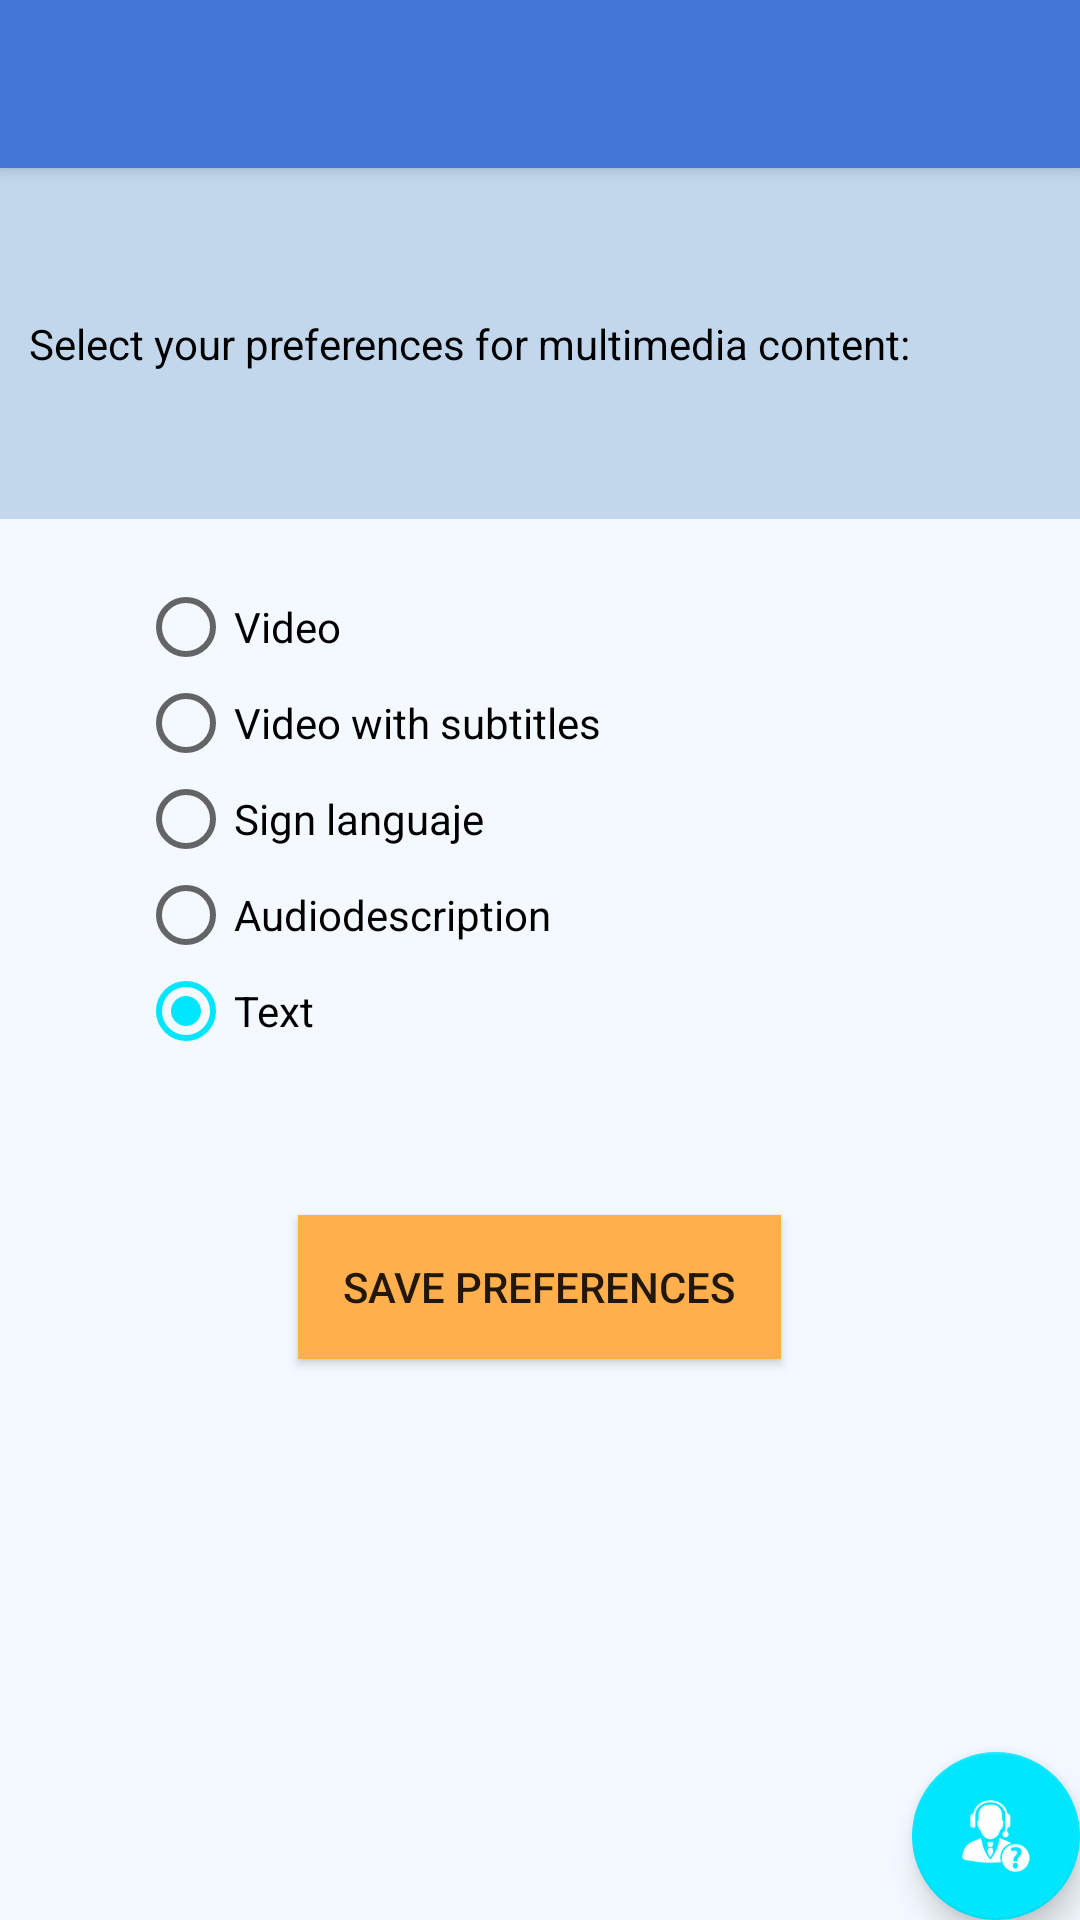

Icons on this 1080 × 1920 Android screen, each with its box as detection(x1, y1, x2, y2):
help: detection(912, 1752, 1080, 1920)
